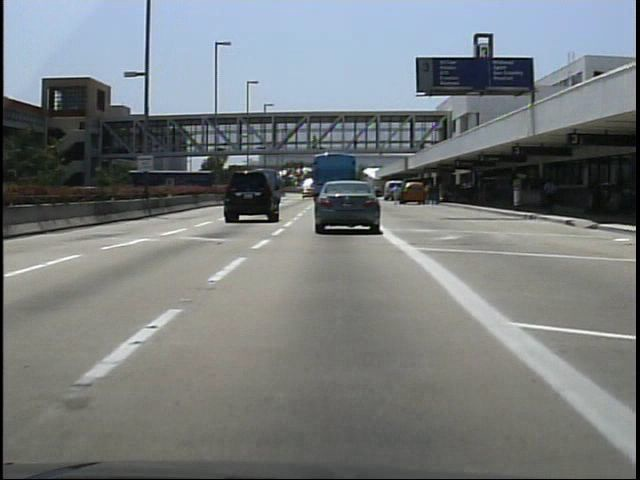person: (542, 173, 562, 217), (423, 179, 440, 209), (390, 181, 406, 208), (349, 133, 363, 155), (310, 132, 323, 152)
